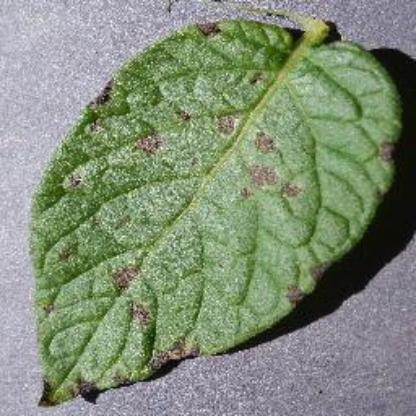Early-Blight: (27, 14, 405, 406)
